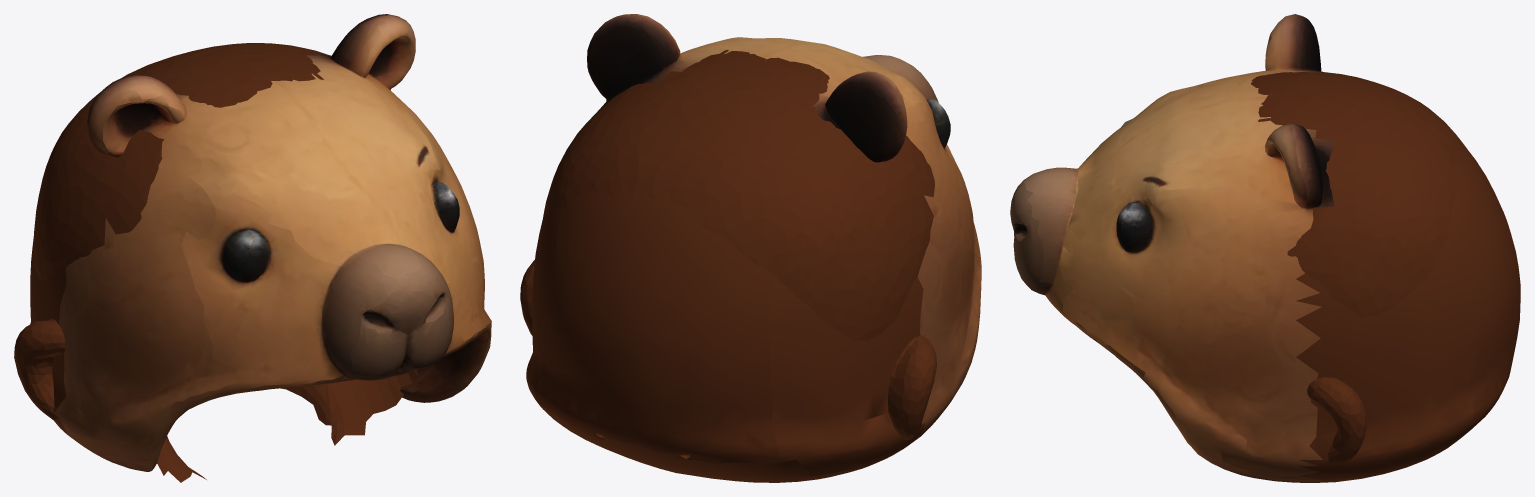
File: capybara.glb
The picture shows the model from 3 angles, left to right: view 1: azimuth 30°, elevation 25°; view 2: azimuth 150°, elevation 25°; view 3: azimuth 270°, elevation 25°; orthographic projection. The views are drawn at different scales.
Parts seen in each view (by area): view 1: geometry_0, HoodAnatomicalLining; view 2: geometry_0, HoodAnatomicalLining; view 3: geometry_0, HoodAnatomicalLining.
Part boxes in pixels (x1,y1,x2,y2): geometry_0: (30, 14, 491, 471); HoodAnatomicalLining: (14, 43, 418, 482); geometry_0: (526, 14, 981, 482); HoodAnatomicalLining: (520, 50, 936, 439); geometry_0: (1010, 14, 1520, 482); HoodAnatomicalLining: (1251, 72, 1467, 465).
Bounding box in the file's own units: 0.4688 × 0.4345 × 0.5408.
2 materials, 1 textured.
